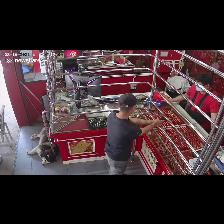person: (105, 94, 163, 174), (184, 85, 219, 121)
